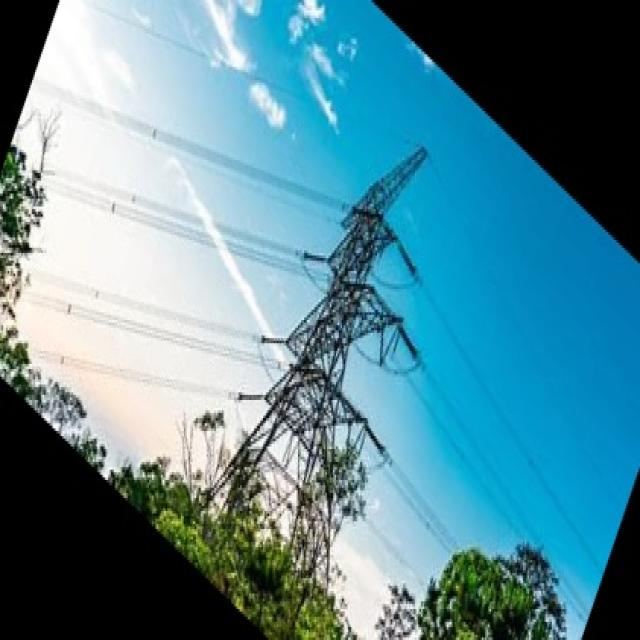utility poles: (425, 471, 570, 634), (257, 408, 374, 609)
